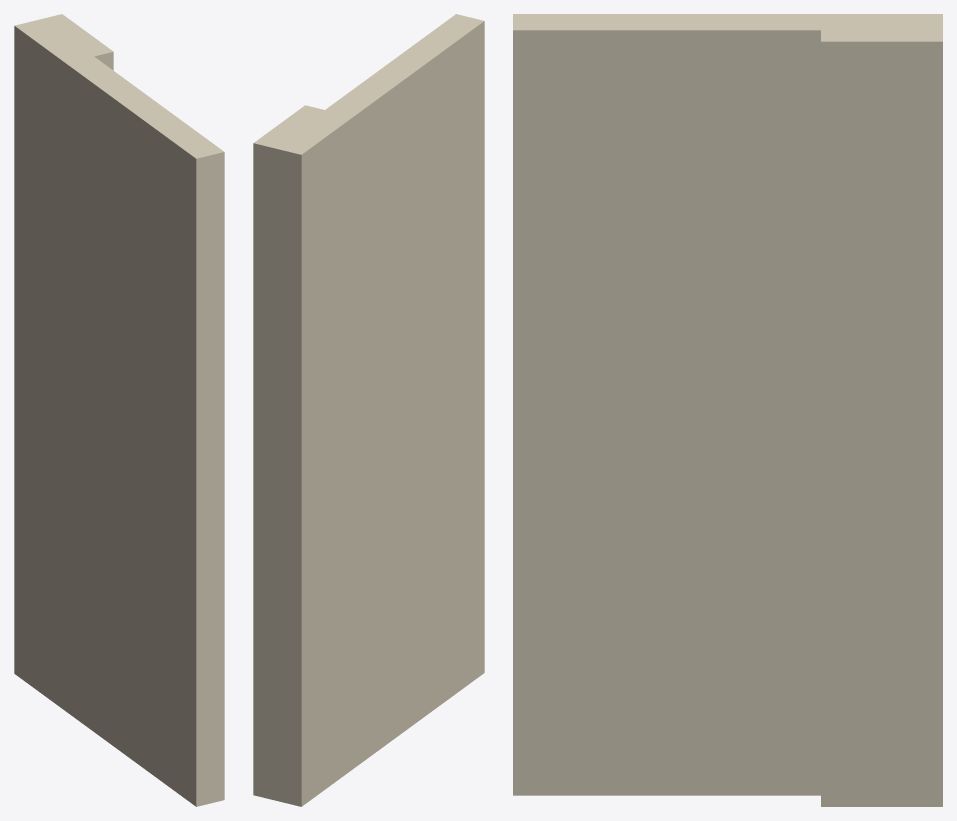
The picture shows the model from 3 angles, left to right: view 1: azimuth 30°, elevation 25°; view 2: azimuth 150°, elevation 25°; view 3: azimuth 270°, elevation 25°; orthographic projection. The views are drawn at different scales.
Parts seen in each view (by area): view 1: A-GF-WALL-035; view 2: A-GF-WALL-035; view 3: A-GF-WALL-035.
Part boxes in pixels (x1,y1,x2,y2): A-GF-WALL-035: [14, 14, 224, 806]; A-GF-WALL-035: [253, 14, 484, 806]; A-GF-WALL-035: [513, 14, 942, 806].
Size of the model in its own units: 0.21 by 2.72 by 1.38.
